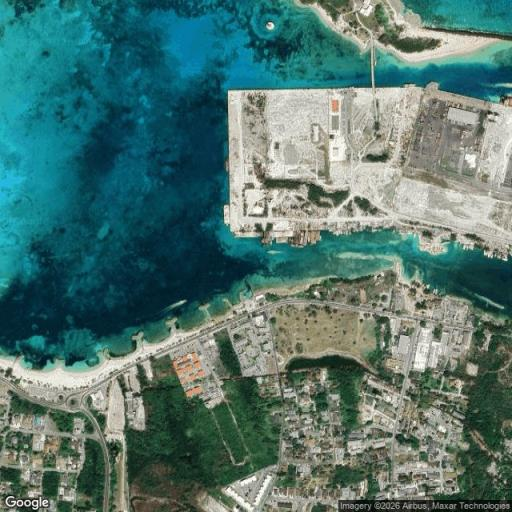ship: (146, 288, 195, 323), (471, 286, 508, 315), (289, 230, 320, 247), (233, 230, 265, 238), (223, 204, 230, 227), (500, 95, 511, 107), (431, 287, 440, 297), (224, 156, 229, 172), (490, 250, 495, 262), (403, 83, 415, 87), (465, 243, 470, 250)
